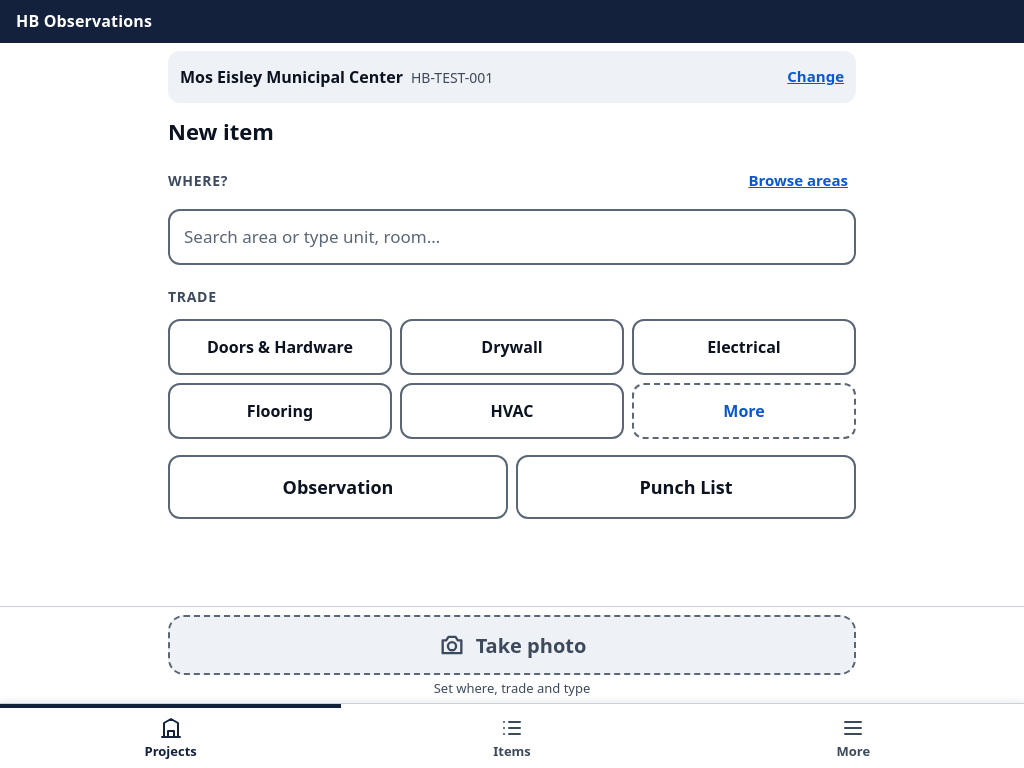
Test case: rapid capture › removes a selected area in one tap and keeps the detail
Type "201" into the dropdown labelled "Where?".
click(512, 237); type("201")  # box x1=168 y1=209 x2=856 y2=265
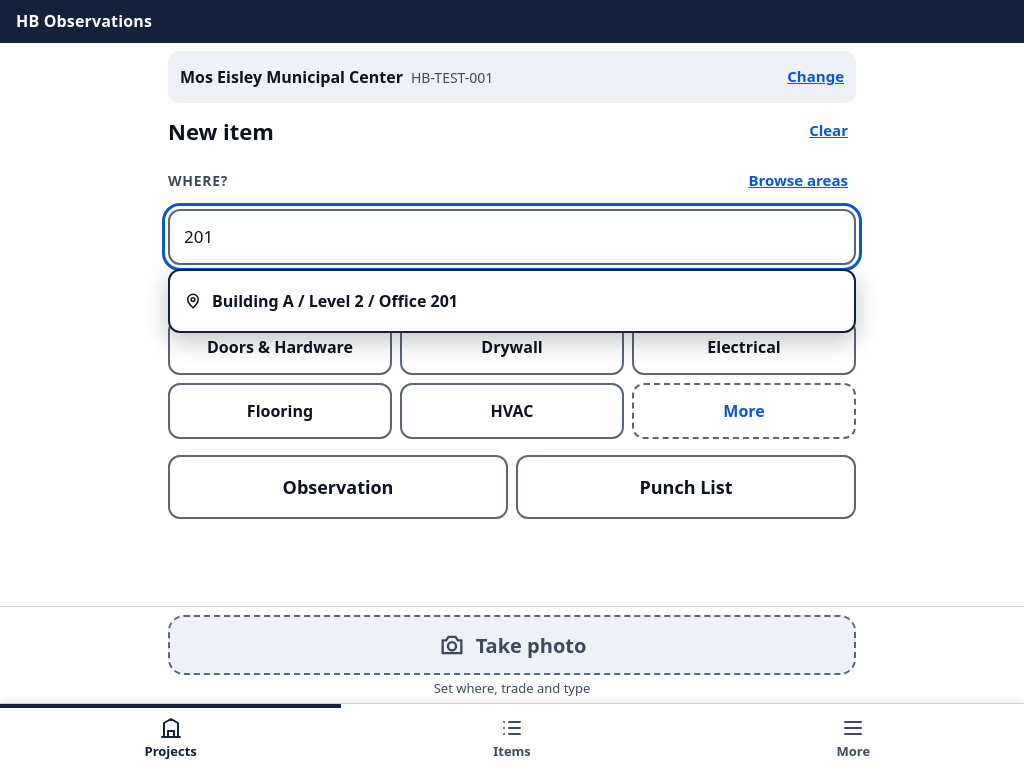
Click the option "Building A / Level 2 / Office 201".
click(321, 301)  # box x1=184 y1=290 x2=458 y2=312
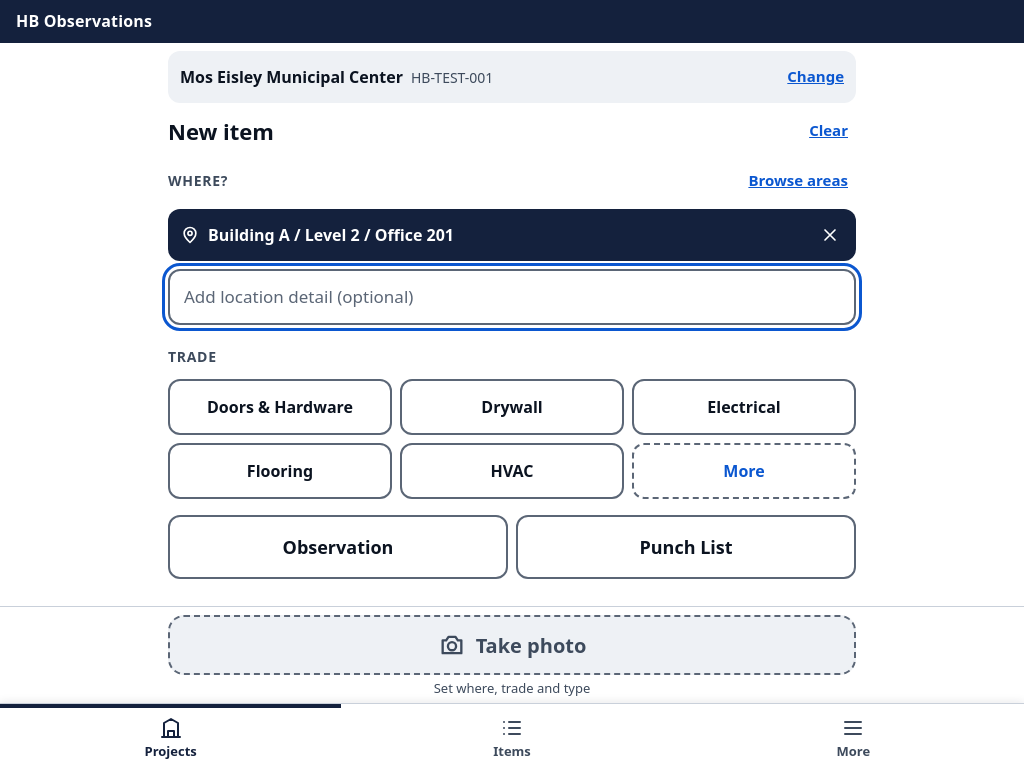
Type "North wall" into the dropdown labelled "Where?".
click(512, 297); type("North wall")  # box x1=168 y1=269 x2=856 y2=325
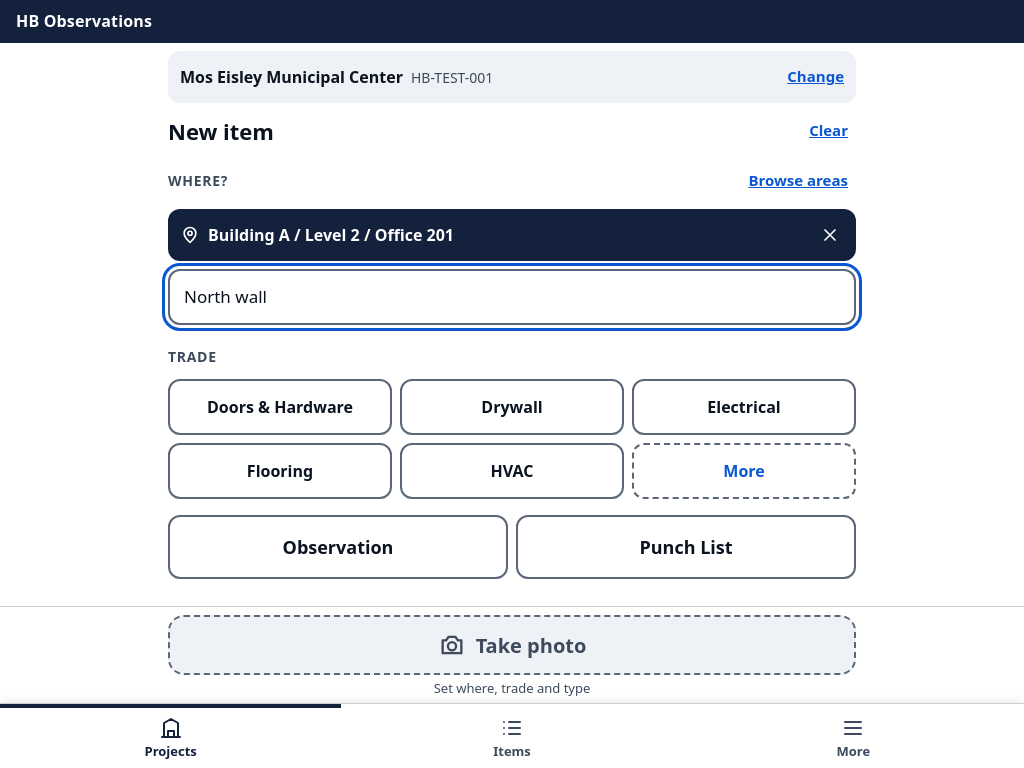
Click the button named "Remove area".
click(830, 235)  # box x1=806 y1=211 x2=854 y2=259
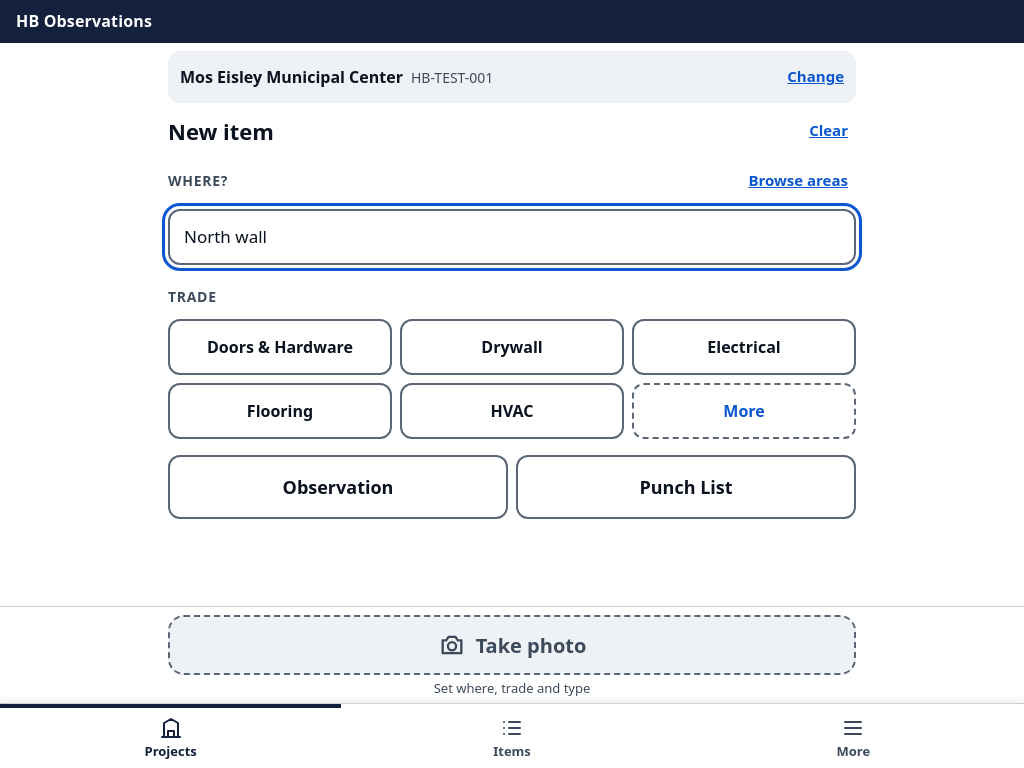
Check: the element with class "location-area" is gone
